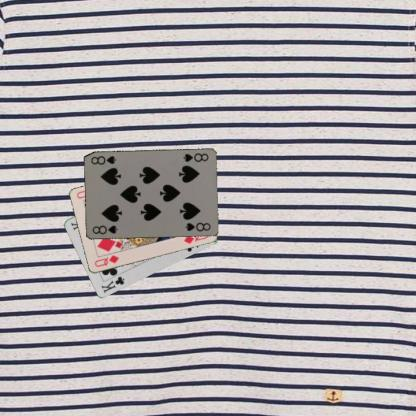8s: (90, 223, 118, 236), (180, 151, 210, 163)
Kc: (98, 274, 126, 294)
Qd: (92, 252, 120, 269)
